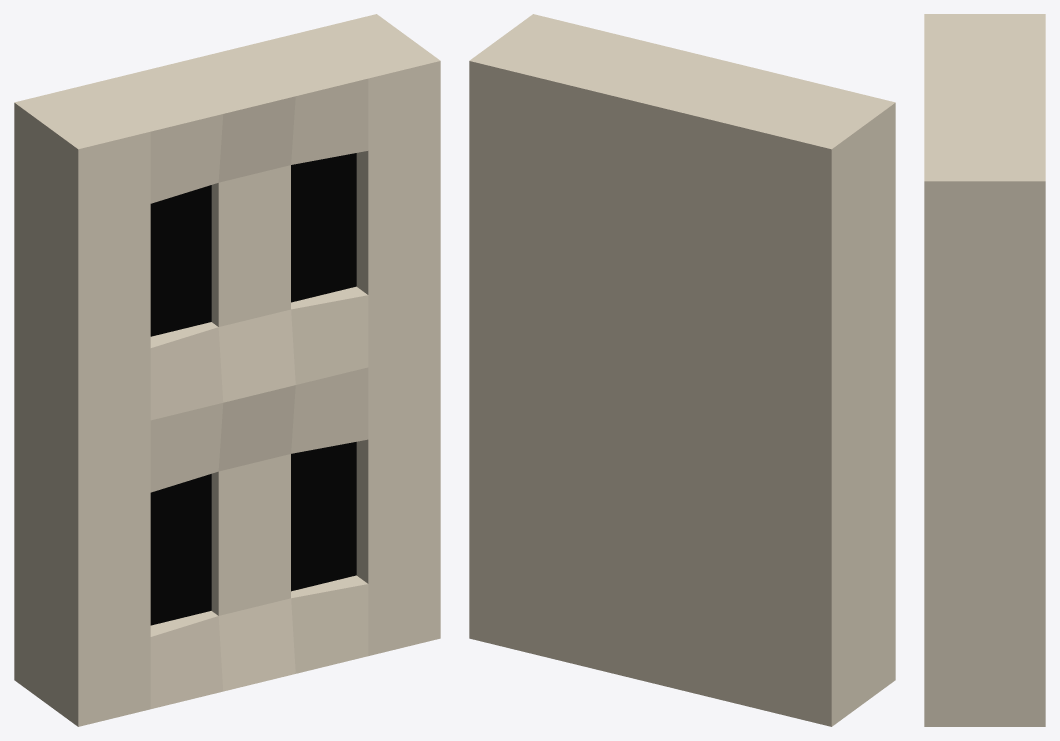
File: Outlet.fbx
3 views of the same model, side by side, from view 1: azimuth 30°, elevation 25°; view 2: azimuth 150°, elevation 25°; view 3: azimuth 270°, elevation 25° (orthographic). The views are drawn at different scales.
Visible parts, largest first — view 1: Cube; view 2: Cube; view 3: Cube.
Boxes of the visible parts, bbox=[...] form: Cube: bbox=[14, 14, 440, 726]; Cube: bbox=[469, 14, 895, 726]; Cube: bbox=[924, 14, 1045, 726].
Size of the model in its own units: 115 by 175 by 35.07.
